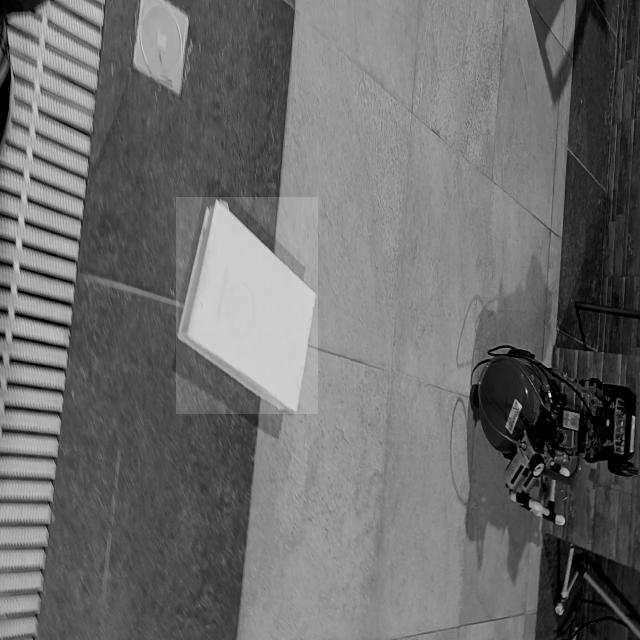Cuboid: (176, 197, 318, 414)
